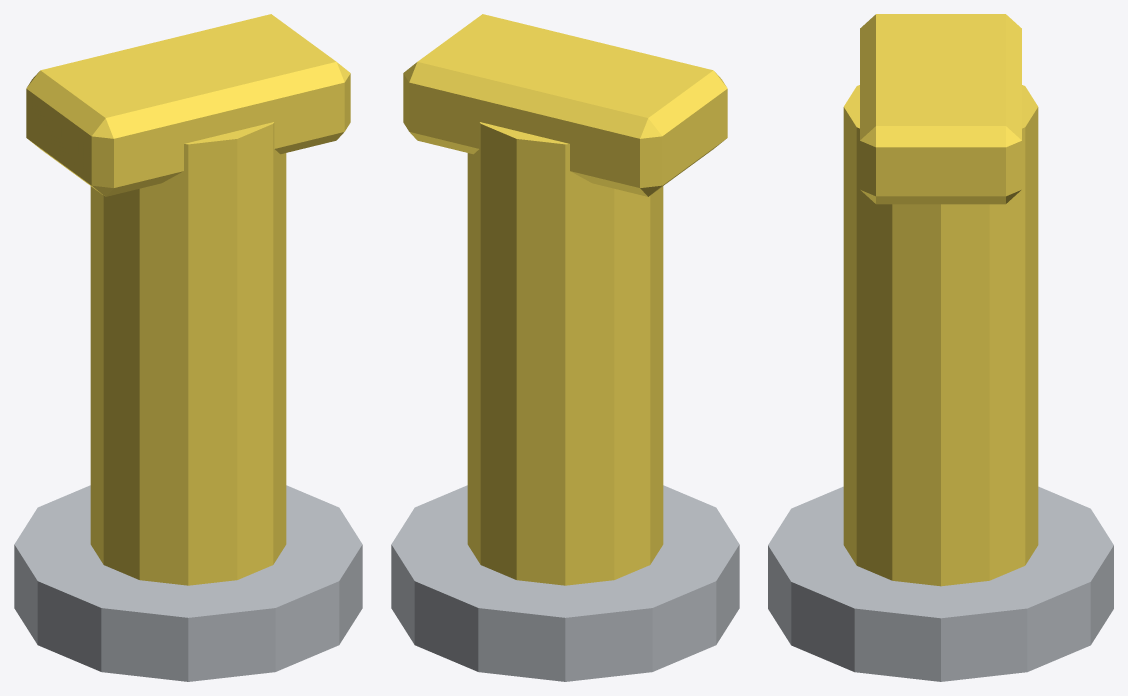
File: bollard.glb
3 views of the same model, side by side, from view 1: azimuth 30°, elevation 25°; view 2: azimuth 150°, elevation 25°; view 3: azimuth 270°, elevation 25° (orthographic).
Visible parts, largest first — view 1: harbor_bollard; view 2: harbor_bollard; view 3: harbor_bollard.
Boxes of the visible parts, <box> form: harbor_bollard: <box>14,14,362,681</box>; harbor_bollard: <box>391,14,739,681</box>; harbor_bollard: <box>768,14,1113,681</box>.
Bounding box in the file's own units: 0.64 × 1.1 × 0.64.
